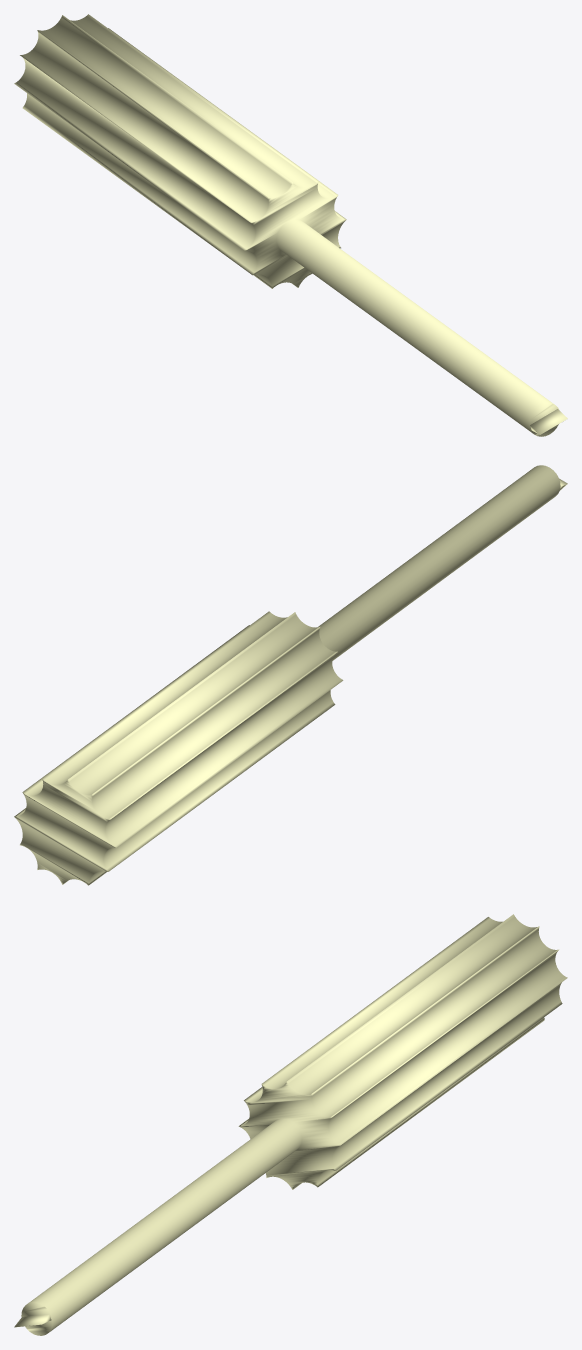
Rendered from screwdriver1_3.dae.
3 renders of one model, top to bottom at view 1: azimuth 30°, elevation 25°; view 2: azimuth 150°, elevation 25°; view 3: azimuth 330°, elevation 25°, orthographic.
Parts seen in each view (by area): view 1: screwdriver1_019; view 2: screwdriver1_019; view 3: screwdriver1_019.
Part boxes in pixels (x1,y1,x2,y2): screwdriver1_019: [14, 14, 567, 436]; screwdriver1_019: [14, 465, 567, 885]; screwdriver1_019: [14, 914, 567, 1335].
Size of the model in its own units: 0.0454 by 0.3695 by 0.0448.
